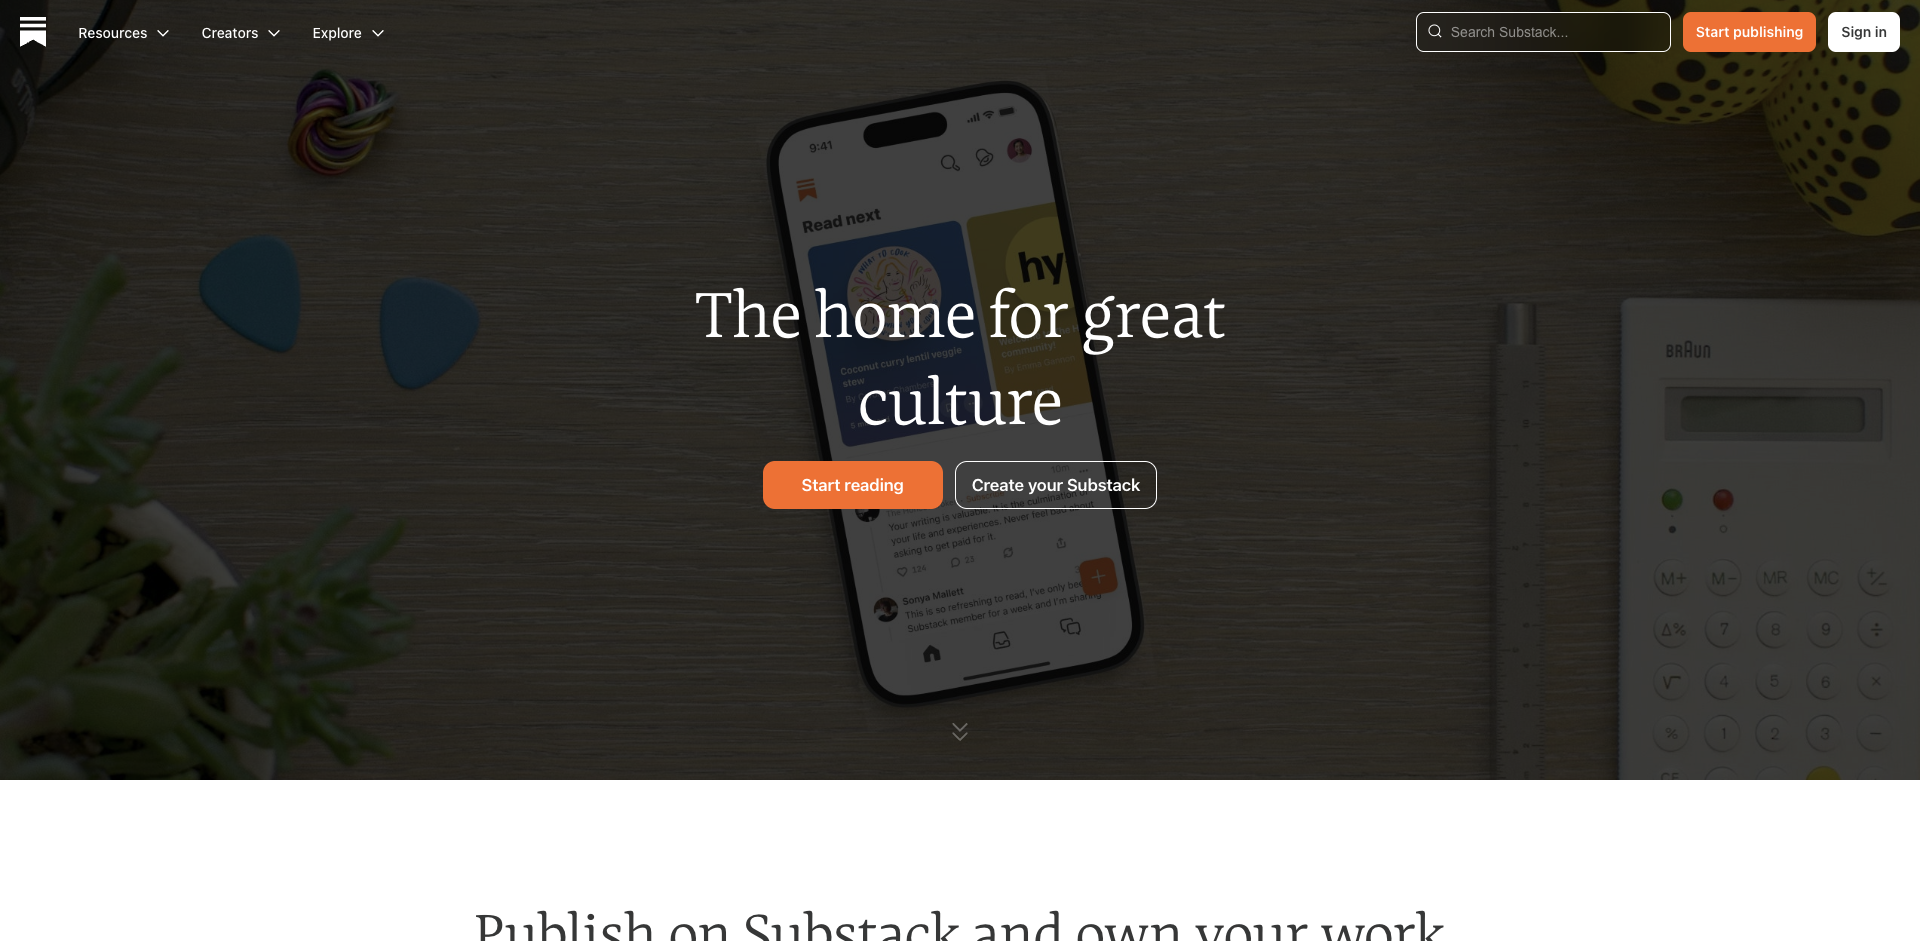button: (763, 461, 1157, 508), (955, 461, 1157, 508), (763, 461, 943, 508), (1682, 12, 1816, 51), (78, 12, 169, 51), (202, 12, 280, 51), (1828, 12, 1900, 51), (312, 12, 383, 51)
dropdown: (202, 60, 430, 562), (202, 61, 429, 561), (78, 60, 306, 342), (80, 61, 305, 341), (312, 60, 571, 254), (313, 61, 569, 252)
input: (1416, 12, 1670, 51)
link: (322, 69, 561, 113), (322, 113, 561, 157), (322, 157, 561, 201), (322, 201, 561, 245), (87, 69, 298, 113), (87, 113, 298, 157), (87, 157, 298, 201), (87, 201, 298, 245), (87, 245, 298, 289), (87, 289, 298, 333), (211, 69, 420, 113), (211, 113, 420, 157), (211, 157, 420, 201), (211, 201, 420, 245), (211, 245, 420, 289), (211, 289, 420, 333), (211, 333, 420, 377), (211, 377, 420, 421), (211, 421, 420, 466), (211, 508, 420, 553), (211, 466, 420, 508), (763, 461, 943, 508), (20, 17, 47, 47)
